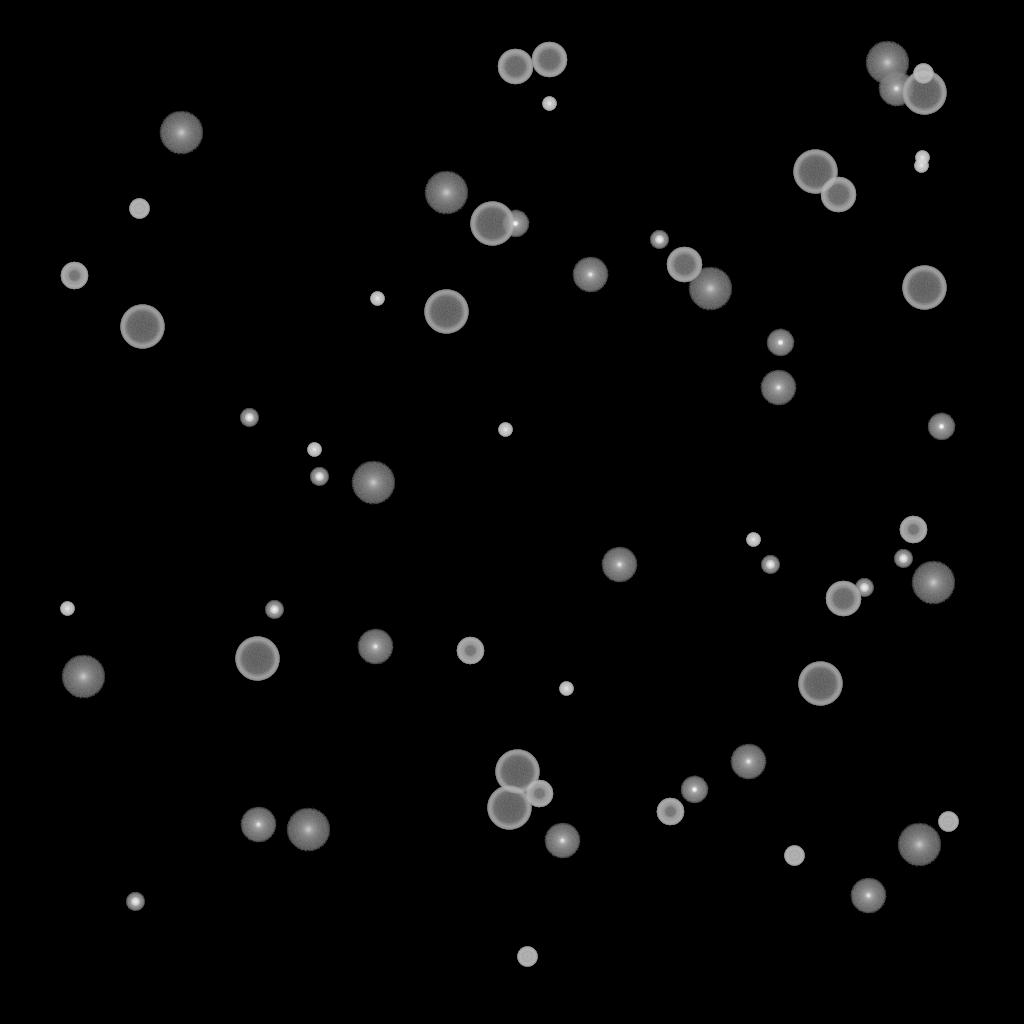depth:-10: (766, 329, 794, 357), (680, 776, 708, 804), (927, 413, 955, 441), (501, 210, 529, 238)
depth:-20: (240, 409, 258, 427), (761, 556, 779, 574), (894, 550, 912, 568), (650, 231, 668, 249), (855, 579, 873, 597), (126, 893, 144, 911), (310, 468, 328, 486), (265, 601, 283, 619)
depth:-30: (307, 443, 321, 457), (746, 533, 760, 547), (914, 159, 928, 173), (559, 682, 573, 696), (915, 151, 929, 165), (498, 423, 512, 437), (60, 602, 74, 616), (370, 292, 384, 306), (542, 97, 556, 111)
depth:-40: (129, 199, 149, 219), (784, 846, 804, 866), (913, 64, 933, 84), (517, 947, 537, 967), (938, 812, 958, 832)
depth:-50: (899, 516, 927, 544), (60, 262, 88, 290), (525, 780, 553, 808), (656, 798, 684, 826), (456, 637, 484, 665)
depth:-60: (666, 247, 702, 283), (825, 581, 861, 617), (497, 49, 533, 85), (820, 177, 856, 213), (531, 42, 567, 78)
depth:-70: (120, 305, 164, 349), (798, 662, 842, 706), (487, 786, 531, 830), (902, 71, 946, 115), (902, 266, 946, 310), (470, 202, 514, 246), (793, 150, 837, 194), (424, 290, 468, 334), (235, 637, 279, 681), (495, 750, 539, 794)
depth:0: (544, 823, 580, 859), (878, 71, 914, 107), (730, 744, 766, 780), (601, 547, 637, 583), (572, 257, 608, 293), (850, 878, 886, 914), (760, 370, 796, 406), (357, 629, 393, 665), (240, 807, 276, 843)
depth:10: (897, 823, 941, 867), (286, 808, 330, 852), (865, 41, 909, 85), (61, 655, 105, 699), (424, 171, 468, 215), (911, 561, 955, 605), (351, 461, 395, 505), (688, 267, 732, 311), (159, 111, 203, 155)
